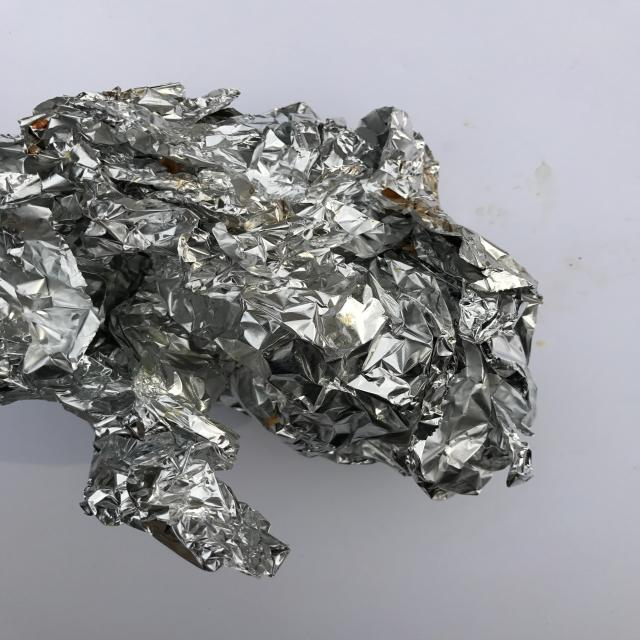metal: (1, 82, 543, 578)
